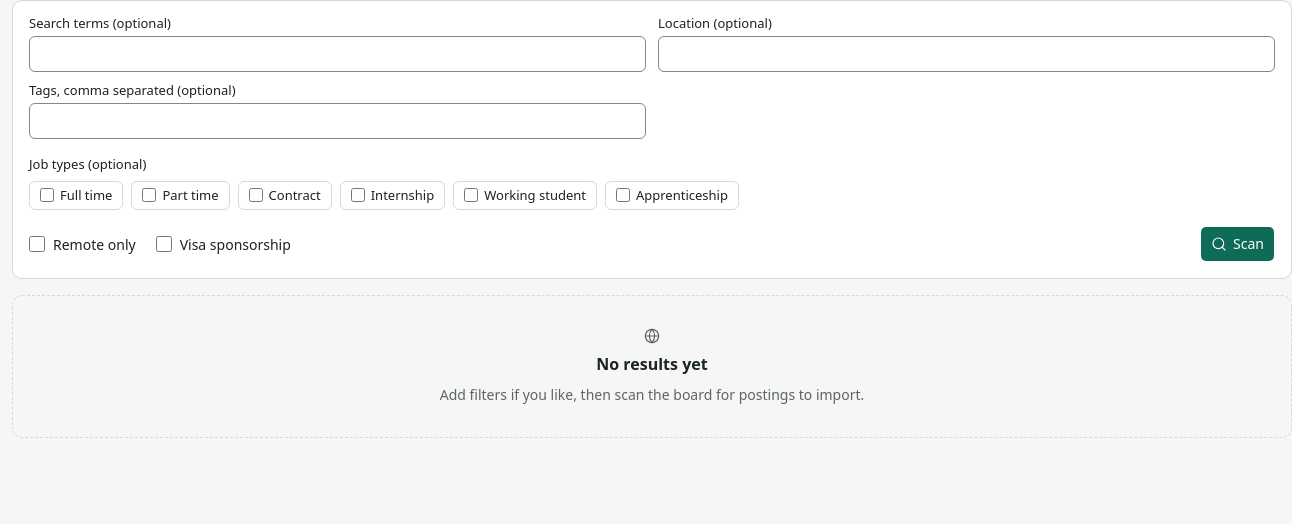
ArbeitnowPage import › shows the already-saved copy for a reused posting
Click the button with test id "arbeitnowScanButton": (1238, 244) top-left (1200, 226), bottom-right (1275, 262)
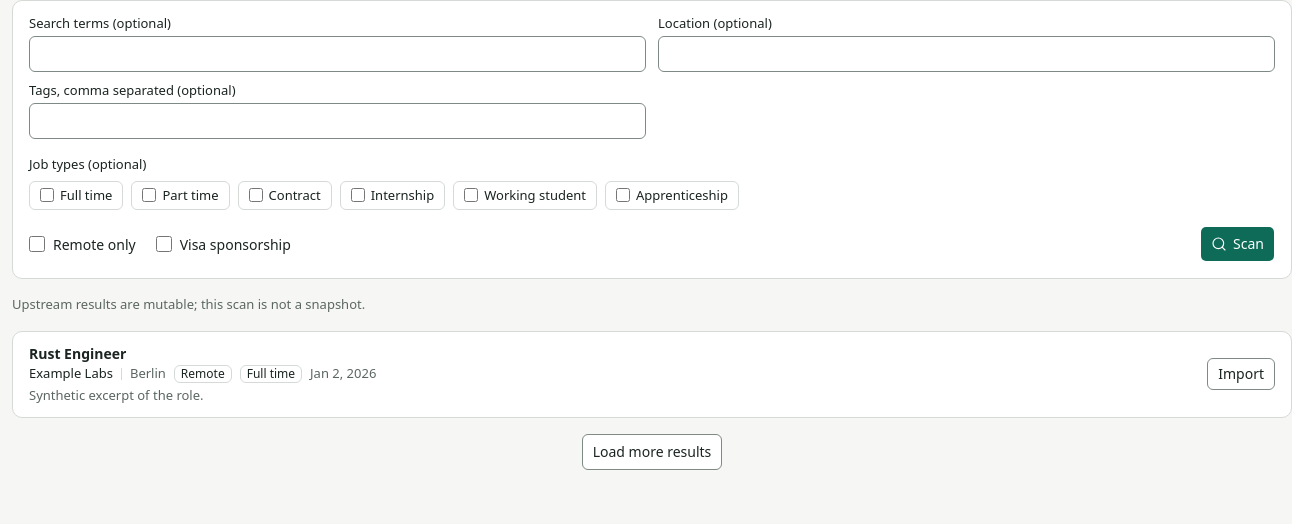
Click the button with test id "arbeitnowImportButton": (1241, 374) top-left (1207, 358), bottom-right (1275, 390)
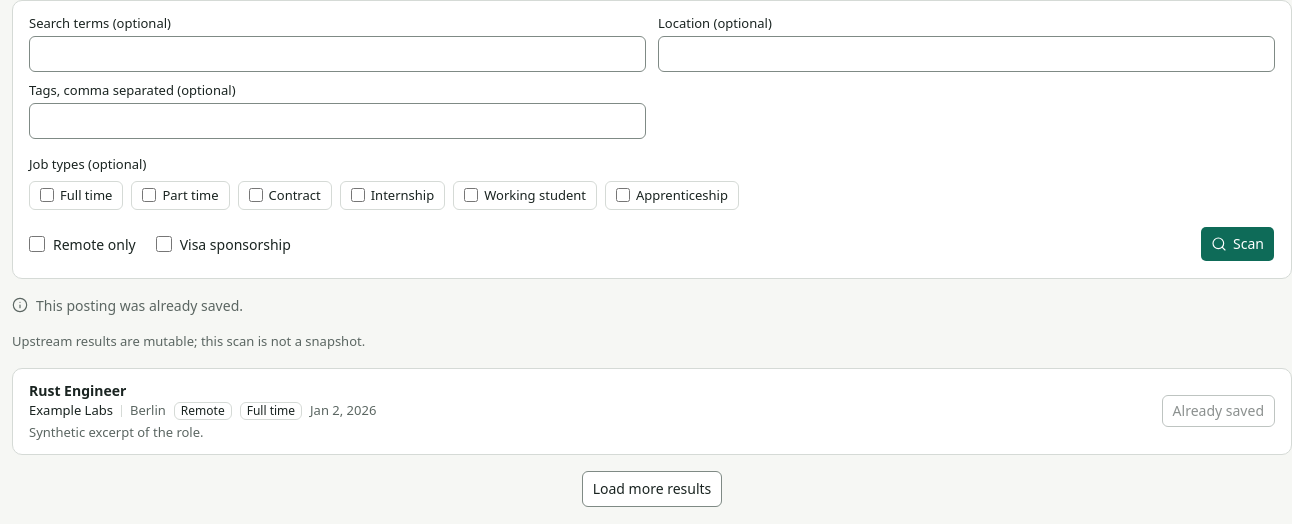
Result: the button with test id "arbeitnowImportButton" reads "Already saved" at top-left (1162, 395), bottom-right (1275, 427)
Result: the message with test id "arbeitnowStatusLabel" reads "This posting was already saved." at top-left (36, 296), bottom-right (243, 315)
